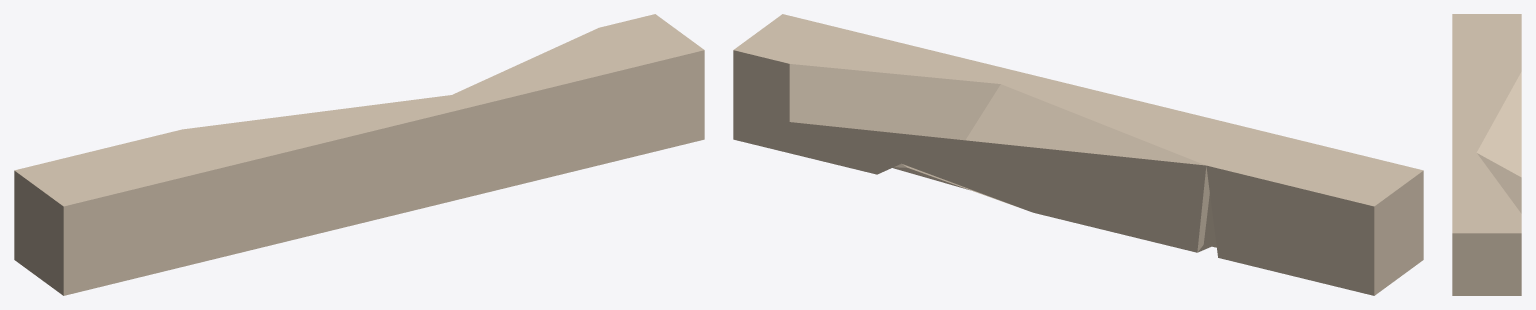
The model's file is Ceiling_Border_001.fbx.
3 views of the same model, side by side, from view 1: azimuth 30°, elevation 25°; view 2: azimuth 150°, elevation 25°; view 3: azimuth 270°, elevation 25° (orthographic). The views are drawn at different scales.
Visible parts, largest first — view 1: Ceiling_Border_001; view 2: Ceiling_Border_001; view 3: Ceiling_Border_001.
Part boxes in pixels (bbox=[...]): Ceiling_Border_001: bbox=[14, 14, 704, 295]; Ceiling_Border_001: bbox=[733, 14, 1423, 295]; Ceiling_Border_001: bbox=[1452, 14, 1521, 295].
Size of the model in its own units: 3 by 0.4 by 0.4.
